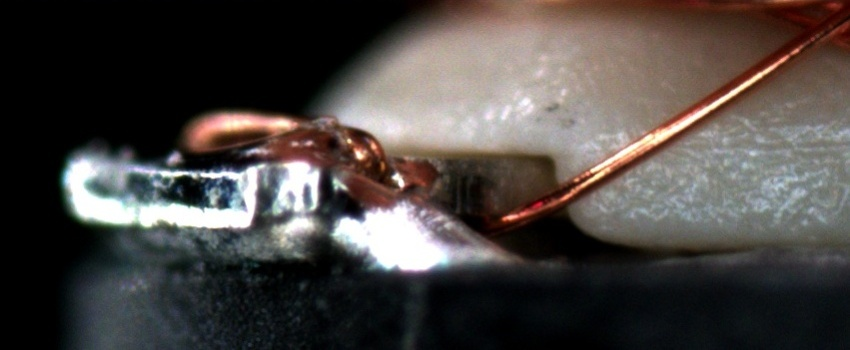CL: (782, 5, 846, 56)
DL: (682, 112, 849, 176)
TE: (175, 100, 401, 189)
